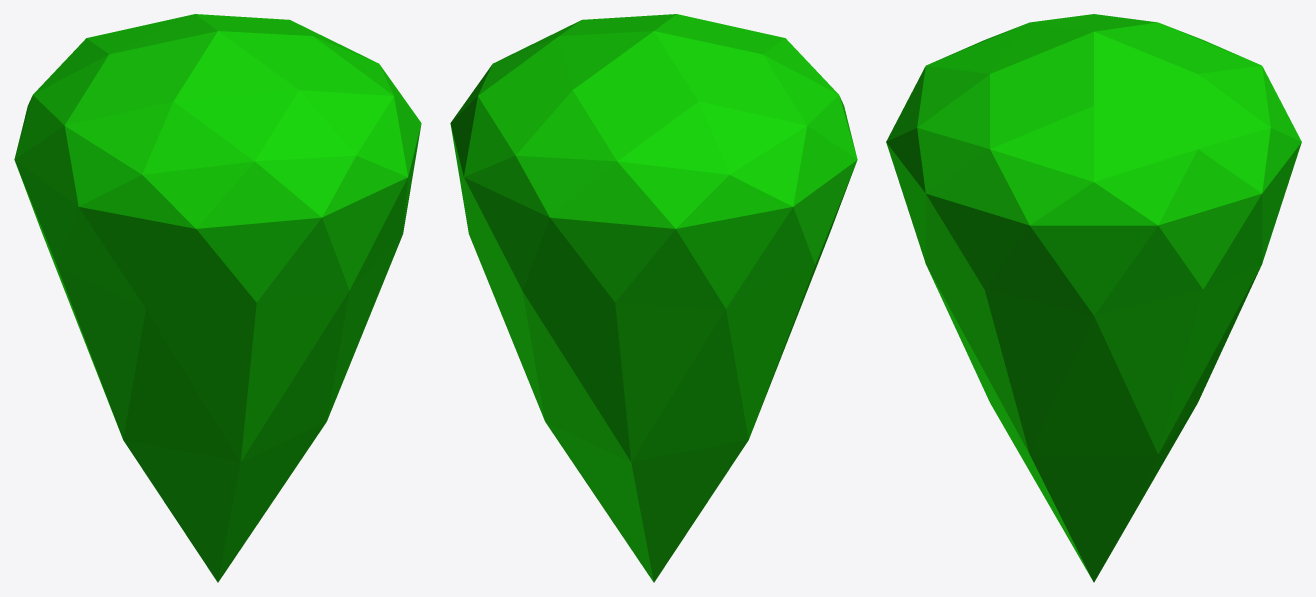
The model's file is gem.fbx.
The picture shows the model from 3 angles, left to right: view 1: azimuth 30°, elevation 25°; view 2: azimuth 150°, elevation 25°; view 3: azimuth 270°, elevation 25°; orthographic projection.
Parts seen in each view (by area): view 1: Icosphere; view 2: Icosphere; view 3: Icosphere.
Boxes of the visible parts, bbox=[...] form: Icosphere: bbox=[14, 14, 421, 582]; Icosphere: bbox=[450, 14, 857, 582]; Icosphere: bbox=[886, 14, 1301, 582].
Bounding box in the file's own units: 190 × 293 × 200.
